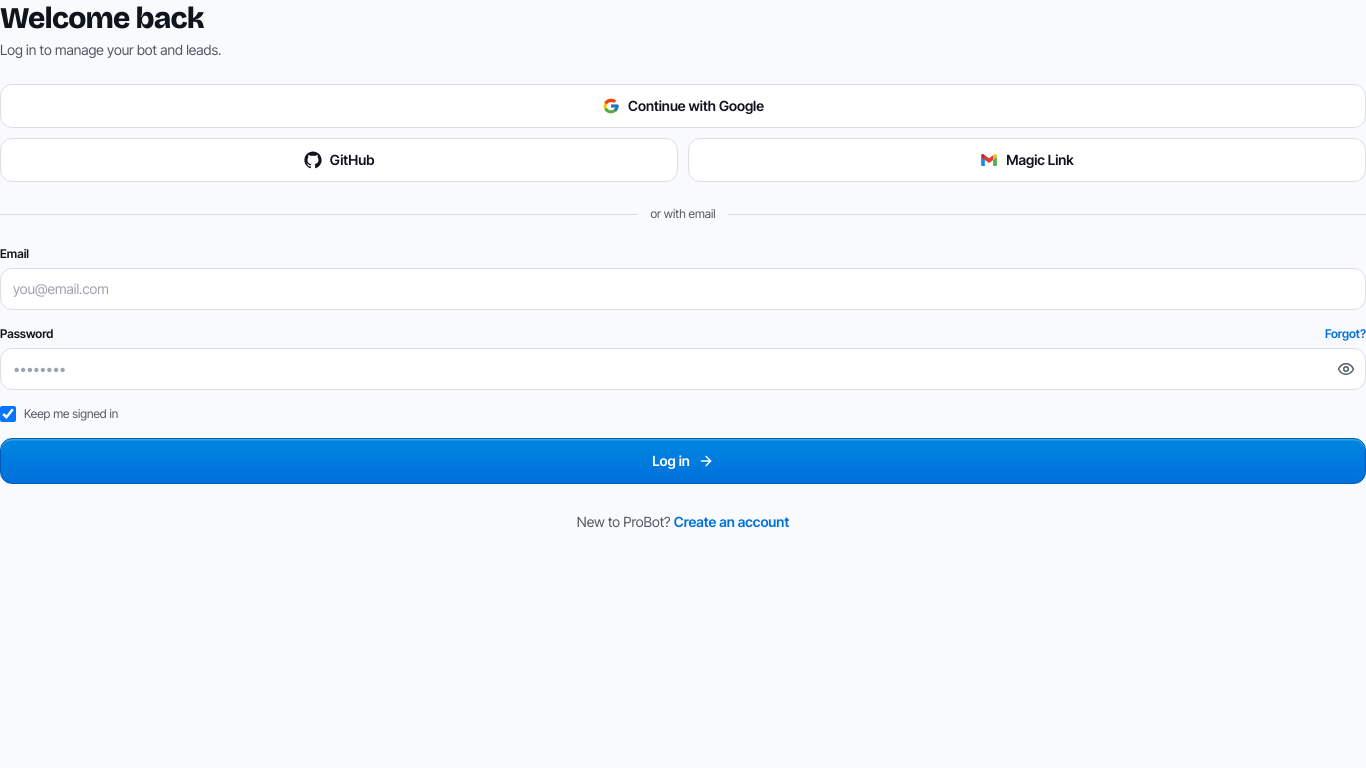
Scenario: LoginForm › opens the forgot-password modal from the Forgot link
Click the button "Forgot?". click: (1345, 334)
box: left=1325, top=326, right=1365, bottom=342
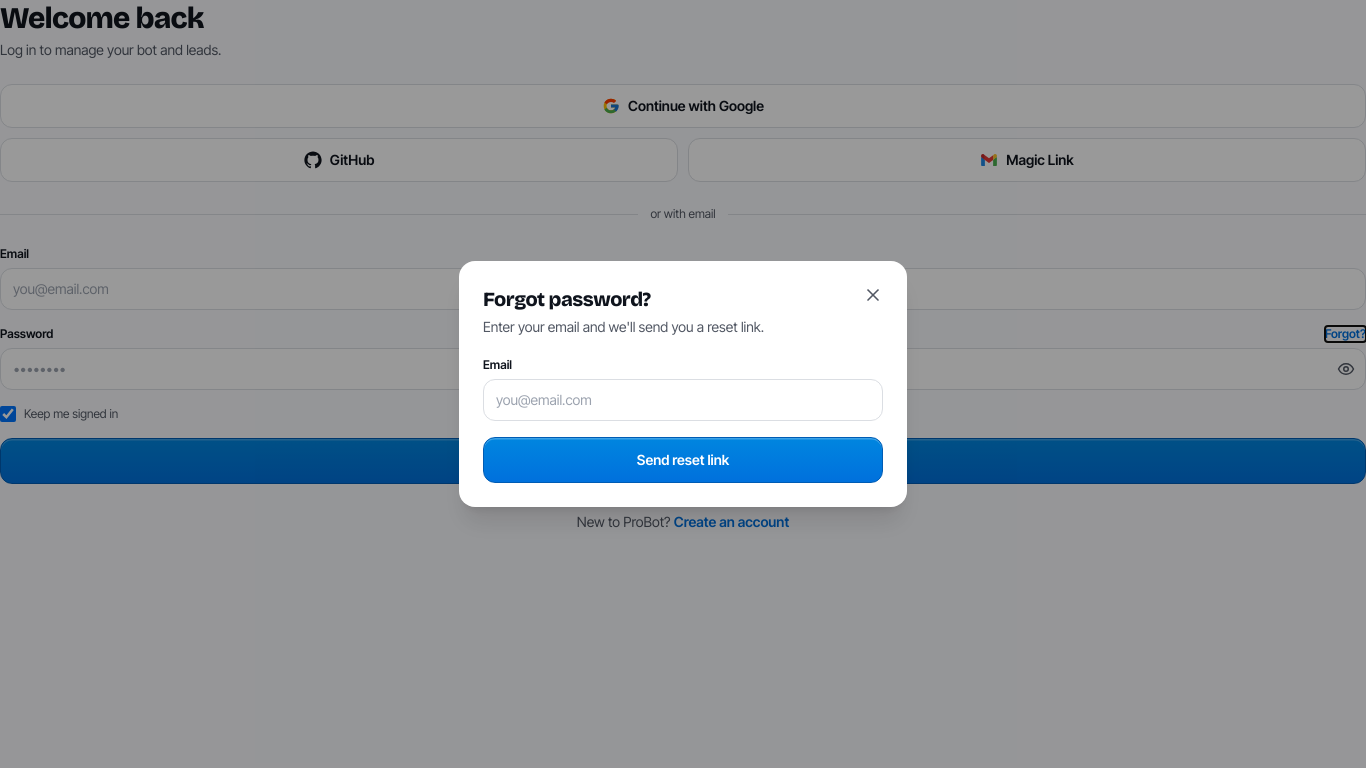
Expected: the dialog is shown, left=459, top=261, right=907, bottom=507
